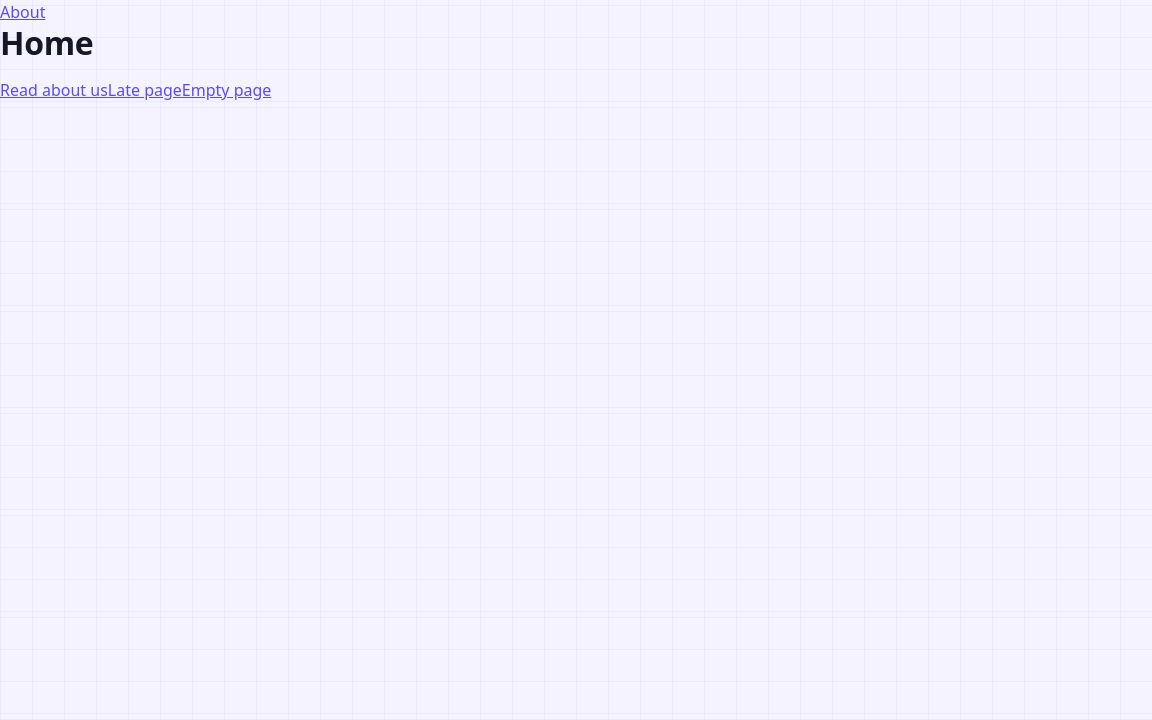
it: PageAnnouncer › moves focus to the new heading and reads the title after a link in the header
Click the link "About".
click(23, 12)  # box x1=0 y1=1 x2=45 y2=23
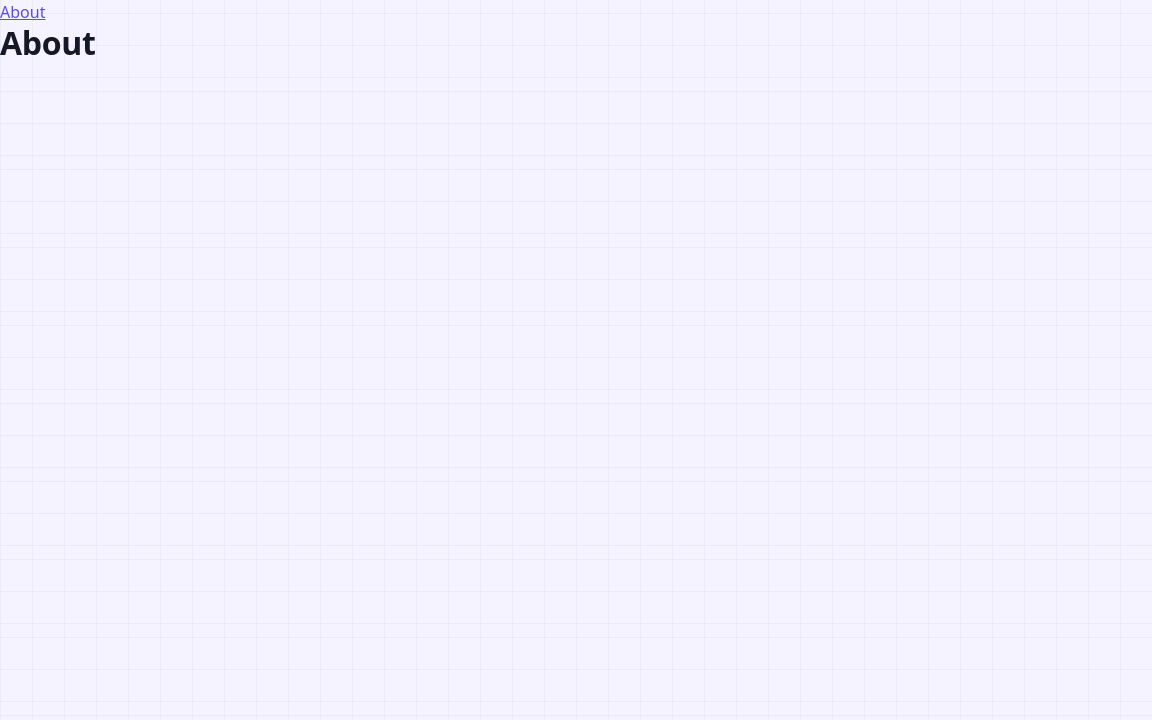
Result: the heading reads "About" at x1=0 y1=21 x2=96 y2=64
